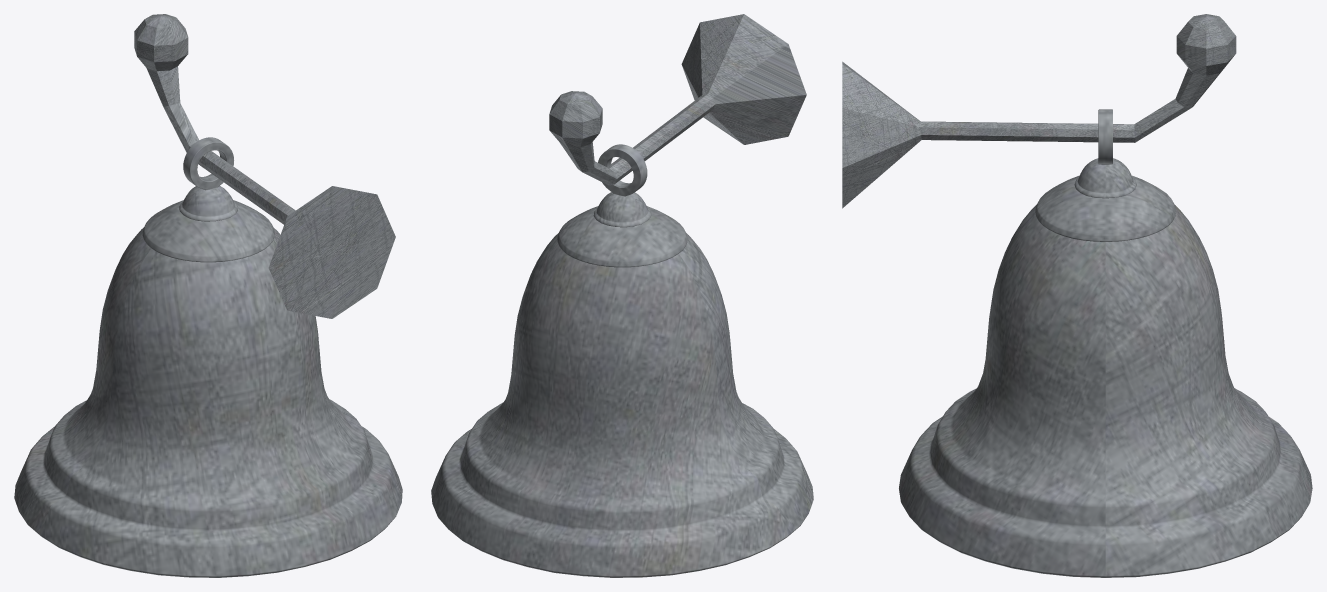
Rendered from bell.glb.
The picture shows the model from 3 angles, left to right: view 1: azimuth 30°, elevation 25°; view 2: azimuth 150°, elevation 25°; view 3: azimuth 270°, elevation 25°; orthographic projection. The views are drawn at different scales.
Visible parts, largest first — view 1: node_id30, Sphere; view 2: node_id30, Sphere; view 3: node_id30, Sphere.
Boxes of the visible parts, left/top/right/bottom form: node_id30: left=14, top=137, right=402, bottom=577; Sphere: left=134, top=14, right=395, bottom=318; node_id30: left=431, top=144, right=813, bottom=577; Sphere: left=549, top=14, right=806, bottom=185; node_id30: left=899, top=109, right=1312, bottom=577; Sphere: left=842, top=14, right=1236, bottom=208.
Bounding box in the file's own units: 0.4548 × 0.6279 × 0.5168.
1 material, 1 textured.
